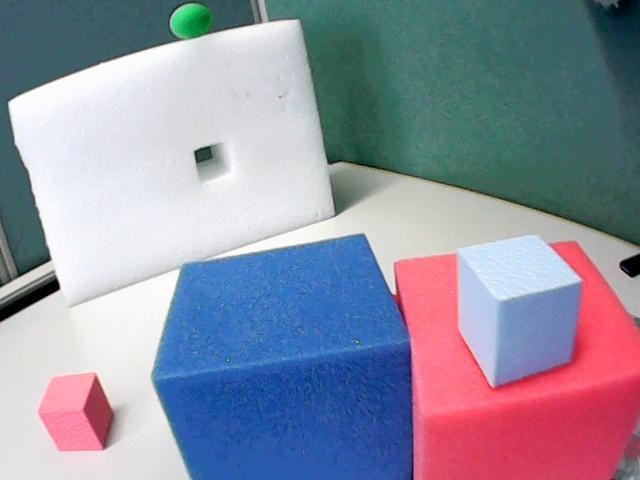blue_block: (152, 235, 411, 479), (457, 235, 581, 386)
red_block: (395, 242, 639, 479), (38, 373, 112, 450)
